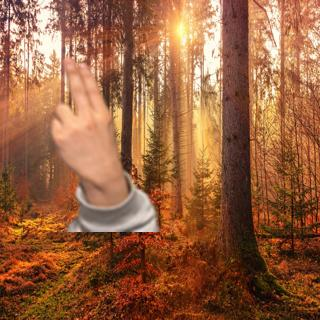DHAVE: (44, 50, 124, 185)
